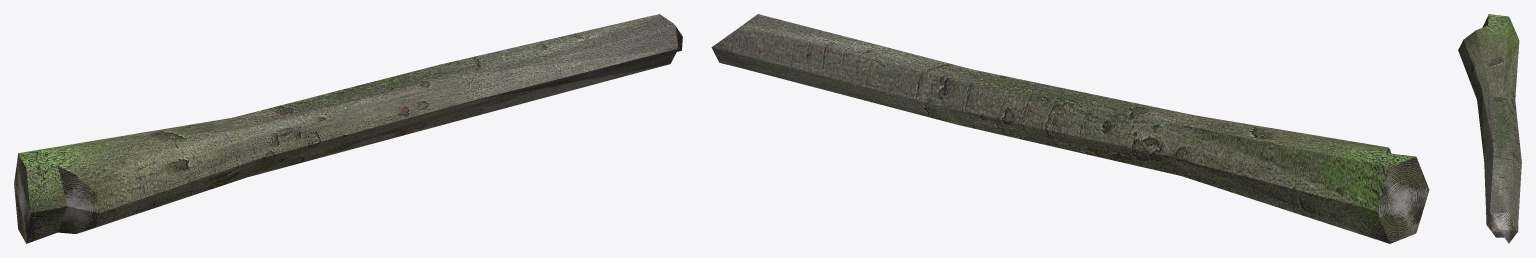
Rendered from KM_ITMW_010_1H_CLUB_02.glb.
3 views of the same model, side by side, from view 1: azimuth 30°, elevation 25°; view 2: azimuth 150°, elevation 25°; view 3: azimuth 270°, elevation 25° (orthographic). The views are drawn at different scales.
Parts seen in each view (by area): view 1: KM_ITMW_010_1H_CLUB_02; view 2: KM_ITMW_010_1H_CLUB_02; view 3: KM_ITMW_010_1H_CLUB_02.
Part boxes in pixels (<box>): KM_ITMW_010_1H_CLUB_02: <box>14,14,682,243</box>; KM_ITMW_010_1H_CLUB_02: <box>711,14,1429,243</box>; KM_ITMW_010_1H_CLUB_02: <box>1458,14,1521,243</box>.
Bounding box in the file's own units: 0.7329 × 0.0787 × 0.1007.
2 materials, 2 textured.
